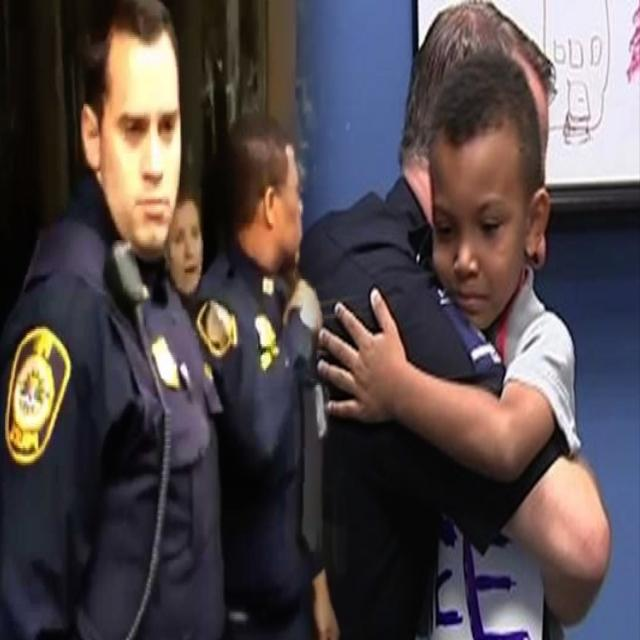body: (296, 0, 610, 639), (311, 43, 585, 639), (0, 0, 230, 639), (186, 107, 335, 640), (163, 180, 205, 302)
